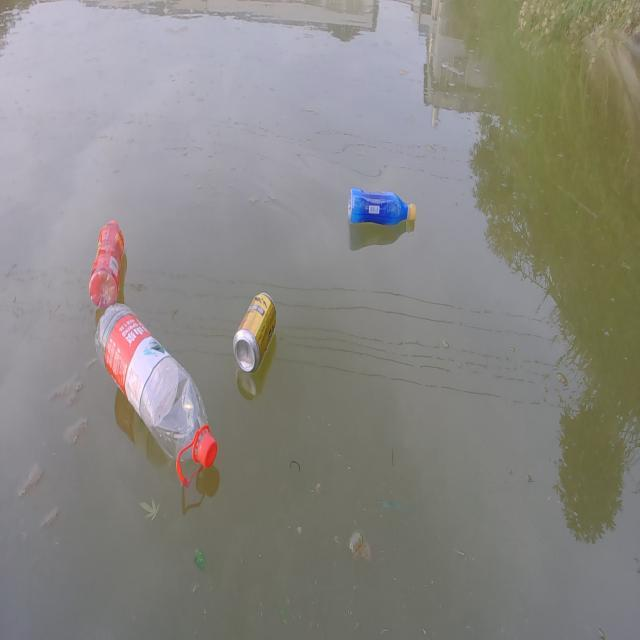bottle: (88, 300, 224, 490), (80, 212, 140, 315), (334, 171, 430, 235)
